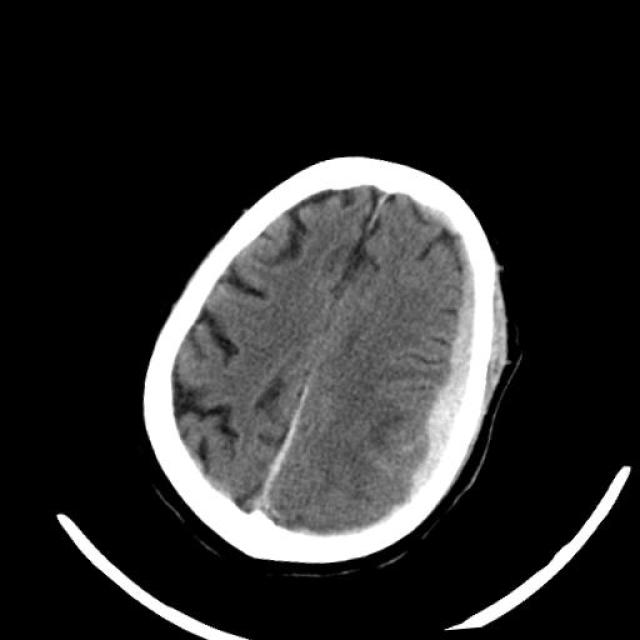Subdural: (358, 182, 552, 526)
